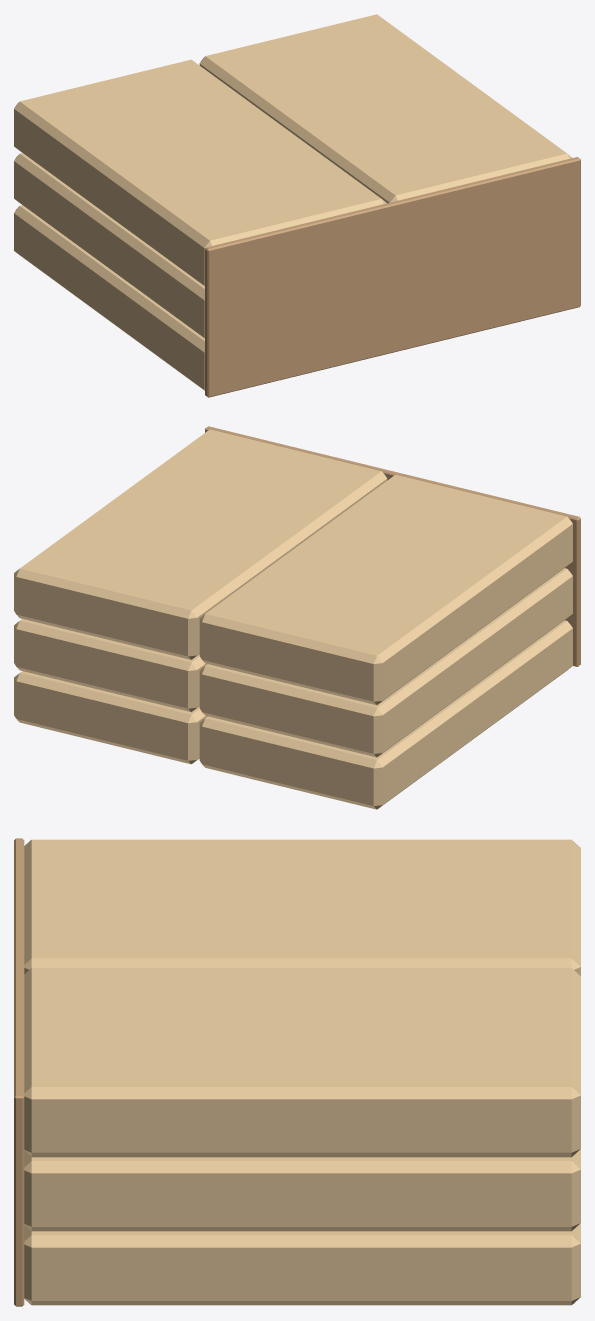
File: FTF_Product_LumberBoards.glb
3 renders of one model, top to bottom at view 1: azimuth 30°, elevation 25°; view 2: azimuth 150°, elevation 25°; view 3: azimuth 270°, elevation 25°, orthographic. The views are drawn at different scales.
Parts seen in each view (by area): view 1: BoardEndGrain, Board_5, Board_6, Board_1, Board_3; view 2: Board_5, Board_6, Board_1, Board_3, Board_2, Board_4, BoardEndGrain; view 3: Board_6, Board_5, Board_4, Board_2, BoardEndGrain.
Boxes of the visible parts, box(x1,y1,x2,y2) form: BoardEndGrain: box(205, 157, 580, 397); Board_5: box(14, 59, 386, 286); Board_6: box(199, 14, 572, 203); Board_1: box(14, 205, 204, 390); Board_3: box(14, 153, 204, 338); Board_5: box(199, 474, 572, 705); Board_6: box(14, 429, 387, 659); Board_1: box(199, 620, 572, 809); Board_3: box(199, 568, 572, 757); Board_2: box(14, 671, 207, 764); Board_4: box(14, 619, 207, 712); BoardEndGrain: box(205, 426, 580, 666); Board_6: box(24, 968, 580, 1157); Board_5: box(24, 839, 580, 975); Board_4: box(24, 1149, 580, 1231); Board_2: box(24, 1223, 580, 1305); BoardEndGrain: box(14, 838, 24, 1306).
Size of the model in its own units: 0.592 by 0.233 by 0.548.
